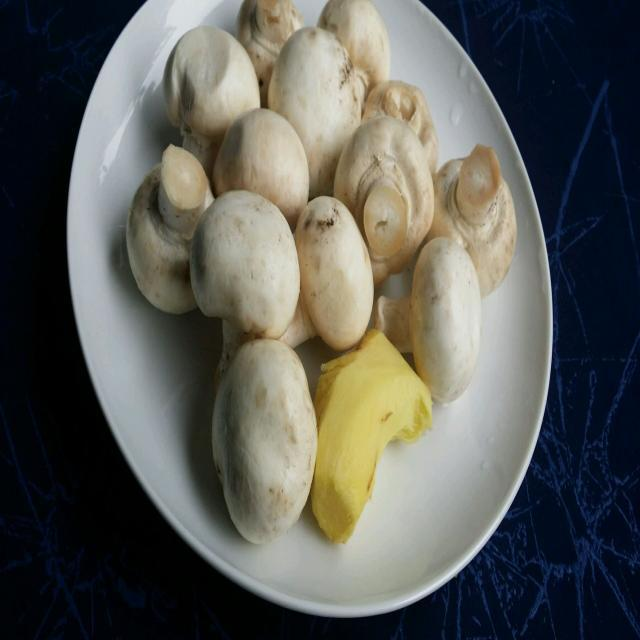Agaricus bisporus: (215, 341, 317, 541), (195, 193, 301, 355), (378, 239, 482, 403), (269, 30, 363, 196), (129, 147, 215, 314), (335, 131, 436, 273), (170, 27, 261, 168), (431, 150, 518, 287), (219, 115, 310, 219)
